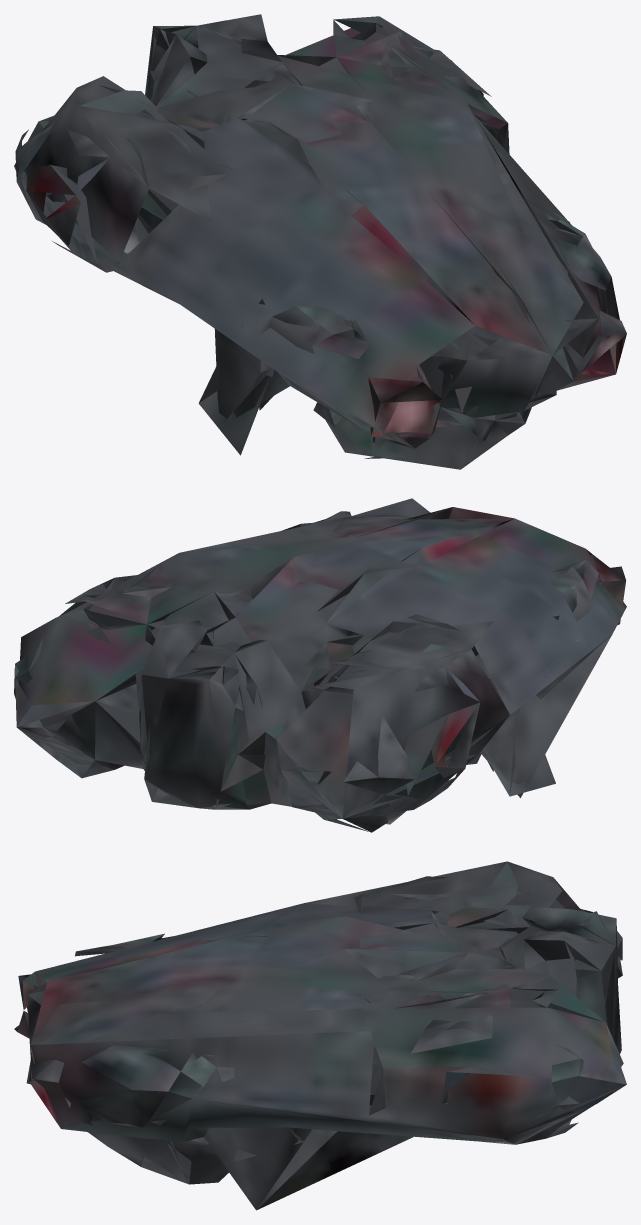
The model's file is enemy_turret_1364897078_lod0m.glb.
3 renders of one model, top to bottom at view 1: azimuth 30°, elevation 25°; view 2: azimuth 150°, elevation 25°; view 3: azimuth 270°, elevation 25°, orthographic. The views are drawn at different scales.
Size of the model in its own units: 4.24 by 2.57 by 5.91.
Materials: 1 (1 with a texture image).
